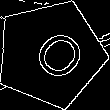O_SW: (17, 20, 85, 87)
